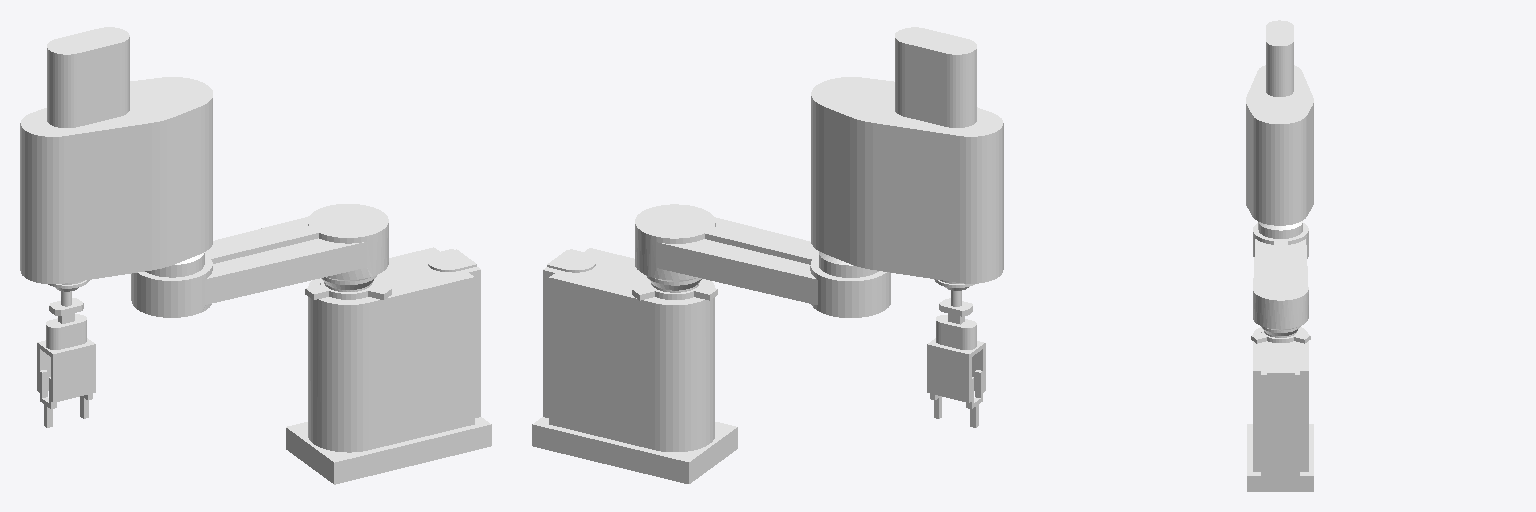
The robot description file, URDF, robot "scara":
<?xml version="1.0"?>

<robot name="scara">
	<link name="base_link">
		<visual>
			<origin xyz="-0.055 -0.06 0"/>
			<geometry>
				<mesh filename="package://scara_robot/meshes/base.STL" scale="0.001 0.001 0.001"/>
			</geometry>
			<material name="White">
				<color rgba="1.0 1.0 1.0 1.0"/>
			</material>
		</visual>
		<collision>
			<origin xyz="0.0565 0.0 0.119" rpy="0 0 0"/>
			<geometry>
				<box size="0.223 0.12 0.238"/>
			</geometry>
		</collision>
		<inertial>
			<mass value="5"/>
			<inertia ixx="0" ixy="0" ixz="0" iyy="0" iyz="0" izz="0"/>
		</inertial>
	</link>
	
	<joint name="base_to_link1" type="revolute">
		<parent link="base_link"/>
		<child link="link1"/>
		<axis xyz="0 0 1"/>
		<limit effort="1000.0" lower="-2.094395" upper="2.094395" velocity="0.02"/>
		<origin xyz="0 0 0.238"/>
	</joint>
	
	<link name="link1">
		<visual>
			<origin xyz="-0.3 -0.05 -0.2"/>
			<geometry>
				<mesh filename="package://scara_robot/meshes/link1.STL" scale="0.001 0.001 0.001"/>
			</geometry>
			<material name="White">
				<color rgba="1.0 1.0 1.0 1.0"/>
			</material>
		</visual>
		<collision>
			<origin xyz="-0.125 0 0.058"/>
			<geometry>
				<box size="0.35 0.1 0.05"/>
			</geometry>
		</collision>
		<inertial>
			<mass value="2"/>
			<inertia ixx="0" ixy="0" ixz="0" iyy="0" iyz="0" izz="0"/>
		</inertial>
	</link>
	
	<joint name="link1_to_link2" type="revolute">
		<parent link="link1"/>
		<child link="link2"/>
		<limit effort="1000.0" lower="-2.268928" upper="2.268928" velocity="0.02"/>
		<axis xyz="0 0 1"/>
		<origin xyz="-0.25 0 0.088"/>
	</joint>
	
	<link name="link2">
		<visual>
			<origin xyz="-0.21 -0.0629248 0"/>
			<geometry>
				<mesh filename="package://scara_robot/meshes/link2.STL" scale="0.001 0.001 0.001"/>
			</geometry>
			<material name="White"/>
		</visual>
		<collision>
			<origin xyz="-0.085 0 0.15"/>
			<geometry>
				<box size="0.25 0.15 0.3"/>
			</geometry>
		</collision>
		<inertial>
			<mass value="3"/>
			<inertia ixx="0" ixy="0" ixz="0" iyy="0" iyz="0" izz="0"/>
		</inertial>
	</link>
	
	<joint name="link2_to_link3" type="prismatic">
		<parent link="link2"/>
		<child link="link3"/>
		<limit effort="1000.0" lower="-0.15" upper="0.0" velocity="0.0002"/>
		<axis xyz="0 0 1"/>
		<origin xyz="-0.15 0 0.0"/>
	</joint>
	
	<link name="link3">
		<visual>
			<origin xyz="-0.02 -0.0125 -0.047728"/>
			<geometry>
				<mesh filename="package://scara_robot/meshes/link3.STL" scale="0.001 0.001 0.001"/>
			</geometry>
			<material name="White">
				<color rgba="1.0 1.0 1.0 1.0"/>
			</material>
		</visual>
		<collision>
		<origin xyz="0 0 0.061772"/>
			<geometry>
				<box size="0.04 0.025 0.219"/>
			</geometry>
		</collision>
		<inertial>
			<mass value="0.1"/>
			<inertia ixx="0" ixy="0" ixz="0" iyy="0" iyz="0" izz="0"/>
		</inertial>
	</link>
	
	<joint name="link3_to_link4" type="continuous">
		<origin xyz="0 0 -0.047728"/>
		<parent link="link3"/>
		<child link="link4"/>
		<axis xyz="0 0 1"/>
	</joint>
	
	<link name="link4">
		<visual>
			<origin xyz="-0.03 -0.02 -0.13646"/>
			<geometry>
				<mesh filename="package://scara_robot/meshes/link4.STL" scale="0.001 0.001 0.001"/>
			</geometry>
			<material name="White"/>
		</visual>
		<collision>
			<origin xyz="0 0 -0.068228"/>
			<geometry>
				<box size="0.06 0.04 0.136456"/>
			</geometry>
		</collision>
		<inertial>
			<mass value="0.2"/>
			<inertia ixx="0" ixy="0" ixz="0" iyy="0" iyz="0" izz="0"/>
		</inertial>
	</link>
</robot>

--- What the picture shows (computed from the rendered views, not written in the file) ---
The picture shows the robot from 3 angles, left to right: view 1: azimuth 30°, elevation 25°; view 2: azimuth 150°, elevation 25°; view 3: azimuth 270°, elevation 25°; orthographic projection.
Robot: scara — 5 links, 4 joints (2 revolute, 1 continuous, 1 prismatic); root link base_link; default pose: every joint at zero.
Links seen in each view (by area): view 1: link2, base_link, link1, link4, link3; view 2: link2, base_link, link1, link4, link3; view 3: link2, base_link, link1.
Link boxes in pixels (left/top/right/bottom): link2: left=20, top=27, right=212, bottom=291; base_link: left=286, top=247, right=491, bottom=484; link1: left=131, top=204, right=388, bottom=317; link4: left=37, top=314, right=95, bottom=427; link3: left=49, top=291, right=83, bottom=323; link2: left=811, top=27, right=1003, bottom=290; base_link: left=532, top=248, right=737, bottom=483; link1: left=635, top=204, right=890, bottom=317; link4: left=927, top=315, right=985, bottom=427; link3: left=939, top=290, right=972, bottom=324; link2: left=1246, top=20, right=1313, bottom=225; base_link: left=1247, top=327, right=1313, bottom=491; link1: left=1253, top=221, right=1308, bottom=337.
Size in the robot's own frame: 0.6286 by 0.1229 by 0.652 metres.
Meshes: 5 distinct files referenced, 5 mesh visuals loaded (5 binary STL).